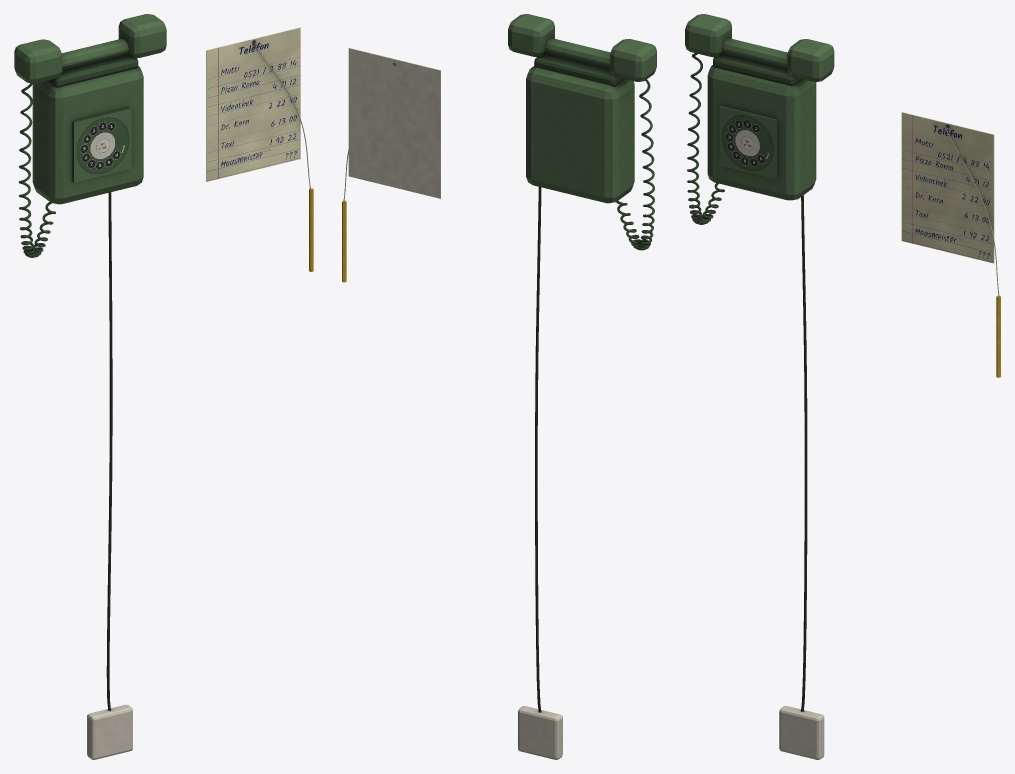
File: kue_wand.glb
The picture shows the model from 3 angles, left to right: view 1: azimuth 30°, elevation 25°; view 2: azimuth 150°, elevation 25°; view 3: azimuth 330°, elevation 25°; orthographic projection. The views are drawn at different scales.
Visible parts, largest first — view 1: kue_wand; view 2: kue_wand; view 3: kue_wand.
Boxes of the visible parts, bbox=[...] form: kue_wand: bbox=[14, 14, 313, 759]; kue_wand: bbox=[342, 14, 656, 759]; kue_wand: bbox=[685, 14, 1000, 759].
Size of the model in its own units: 0.5866 by 1.35 by 0.091.
Materials: 1 (1 with a texture image).
